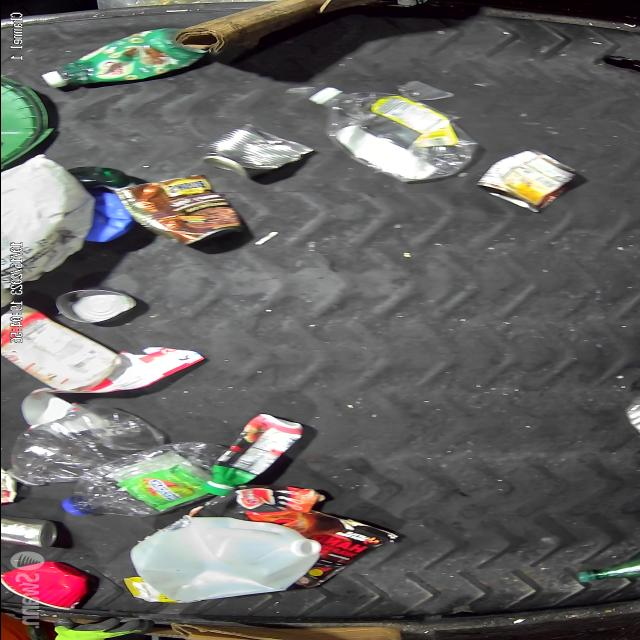can: (112, 174, 242, 248), (475, 147, 579, 214), (200, 122, 313, 180), (52, 287, 138, 325), (0, 514, 58, 549)
milk_jug: (127, 516, 322, 602), (0, 154, 94, 289), (0, 304, 120, 390)
plastic_bottle: (307, 87, 479, 184), (5, 404, 166, 487), (59, 440, 228, 518)
